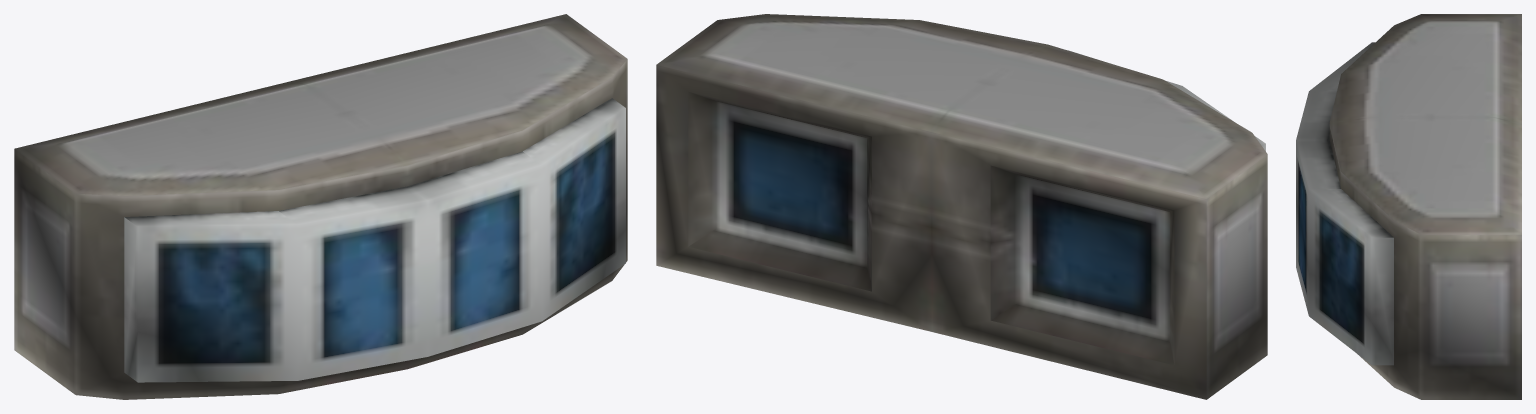
File: Part - Windows 02-ByOImxBF.glb
The picture shows the model from 3 angles, left to right: view 1: azimuth 30°, elevation 25°; view 2: azimuth 150°, elevation 25°; view 3: azimuth 270°, elevation 25°; orthographic projection. The views are drawn at different scales.
Visible parts, largest first — view 1: Windows_02; view 2: Windows_02; view 3: Windows_02.
Boxes of the visible parts, x1,y1,x2,y2 form: Windows_02: [14, 14, 627, 399]; Windows_02: [656, 14, 1267, 399]; Windows_02: [1296, 14, 1521, 399].
Bounding box in the file's own units: 1.59 × 0.5802 × 0.6886.
Materials: 1 (1 with a texture image).
